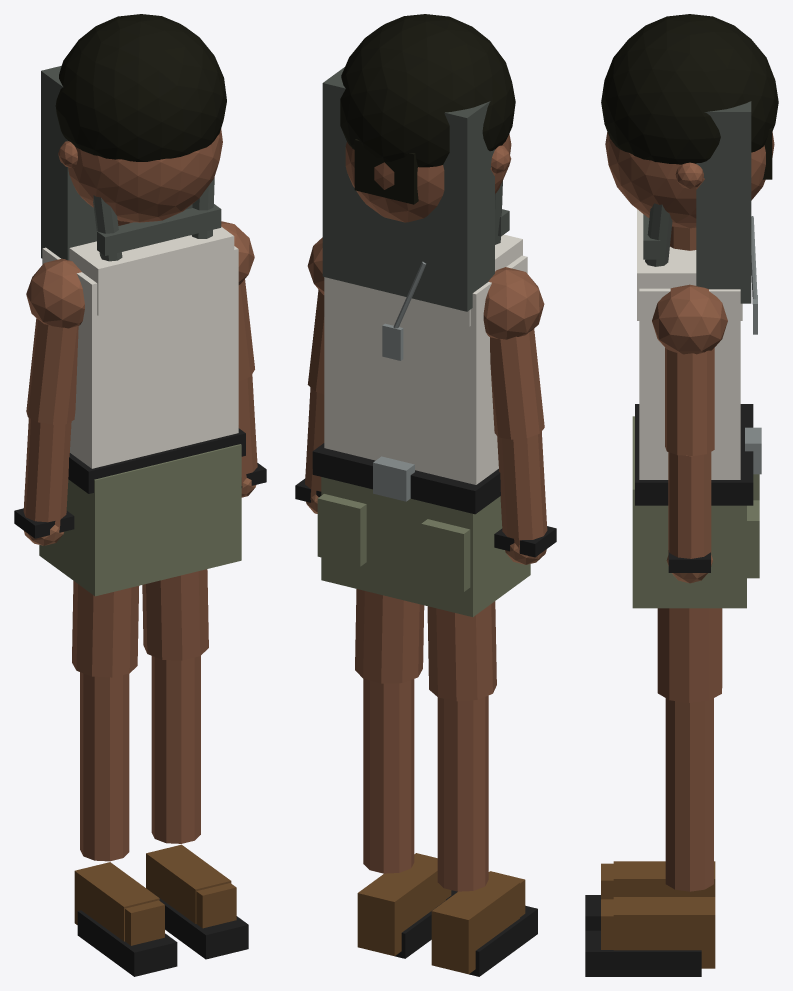
The model's file is male_belizean.glb.
The picture shows the model from 3 angles, left to right: view 1: azimuth 30°, elevation 25°; view 2: azimuth 150°, elevation 25°; view 3: azimuth 270°, elevation 25°; orthographic projection. The views are drawn at different scales.
Parts seen in each view (by area): view 1: tank_top, cargo_shorts, hair, L_lowerleg, R_lowerleg, tank_upper, head, backpack, L_thigh, R_thigh, L_upperarm, L_forearm (+14 smaller); view 2: tank_top, backpack, hair, cargo_shorts, L_lowerleg, R_lowerleg, L_thigh, R_thigh, boot_L_upper, boot_R_upper, L_upperarm, L_forearm (+15 smaller); view 3: hair, tank_top, R_lowerleg, backpack, cargo_shorts, R_thigh, boot_R_upper, R_upperarm, head, R_forearm, R_shoulder, boot_R_sole (+13 smaller).
Part boxes in pixels (box(x1,y1,x2,y2)): tank_top: box(42, 246, 238, 468); cargo_shorts: box(39, 444, 241, 596); hair: box(55, 14, 226, 161); L_lowerleg: box(80, 672, 129, 861); R_lowerleg: box(151, 656, 200, 843); tank_upper: box(69, 227, 234, 315); head: box(68, 128, 222, 222); backpack: box(41, 66, 192, 260); L_thigh: box(72, 581, 138, 677); R_thigh: box(142, 569, 208, 660); L_upperarm: box(26, 318, 78, 424); L_forearm: box(23, 418, 71, 530); tank_top: box(324, 255, 527, 484); backpack: box(322, 67, 494, 311); hair: box(340, 14, 515, 167); cargo_shorts: box(321, 477, 530, 616); L_lowerleg: box(437, 695, 488, 891); R_lowerleg: box(363, 678, 414, 873); L_thigh: box(427, 601, 496, 701); R_thigh: box(355, 589, 424, 683); boot_L_upper: box(431, 875, 519, 974); boot_R_upper: box(357, 857, 445, 956); L_upperarm: box(490, 329, 544, 439); L_forearm: box(497, 431, 547, 550); hair: box(601, 14, 778, 164); tank_top: box(639, 288, 740, 479); R_lowerleg: box(665, 698, 713, 891); backpack: box(696, 101, 751, 303); cargo_shorts: box(632, 416, 746, 608); R_thigh: box(657, 608, 722, 702); boot_R_upper: box(613, 897, 715, 968); R_upperarm: box(665, 348, 714, 455); head: box(605, 132, 774, 228); R_forearm: box(668, 452, 711, 562); R_shoulder: box(652, 284, 727, 354); boot_R_sole: box(585, 930, 701, 976).
Bounding box in the file's own units: 1.3 × 4.83 × 0.915.
